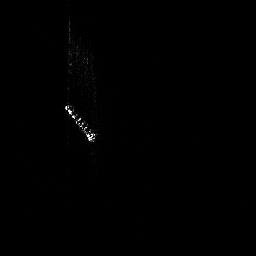ship: (62, 103, 97, 145)
